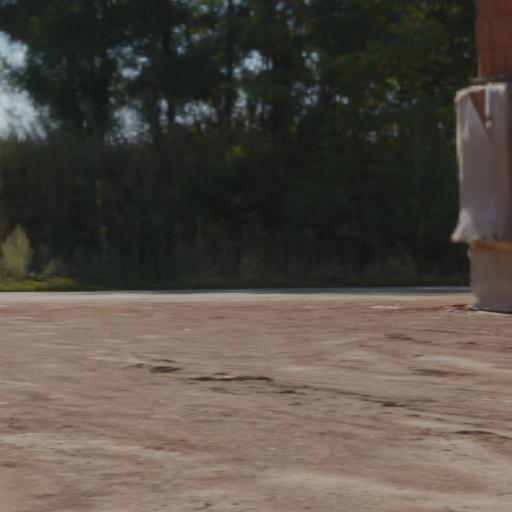nothing: (8, 11, 512, 512)
